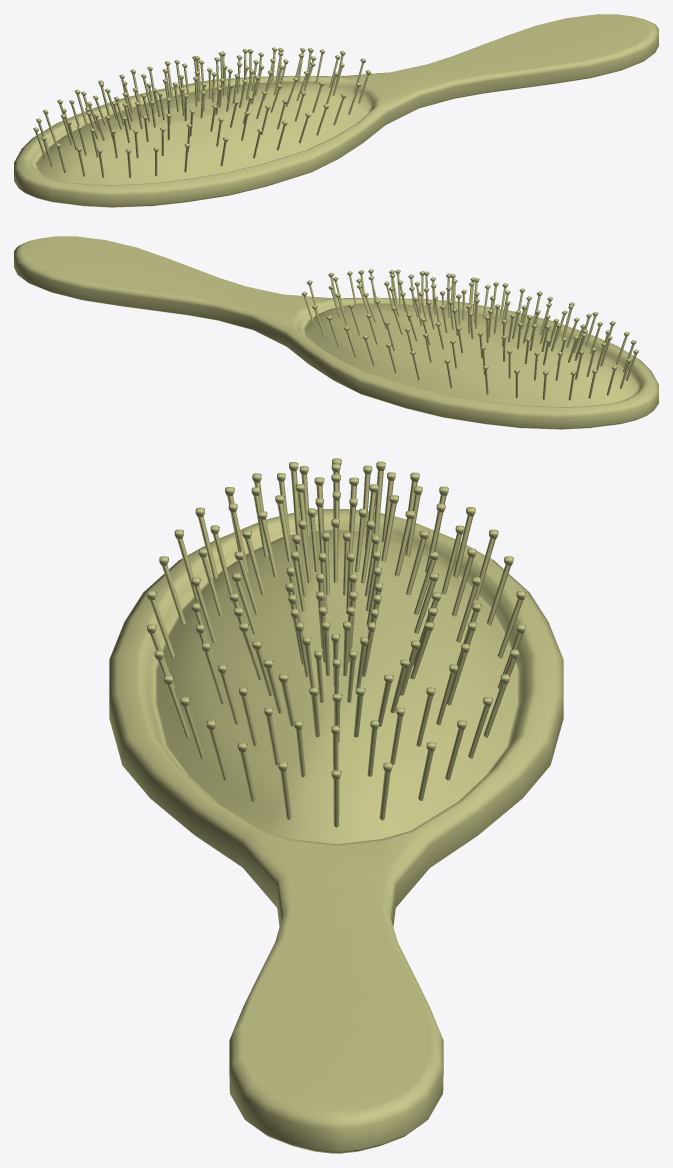
Rendered from hair_brush.fbx.
3 views of the same model, one above another, from view 1: azimuth 30°, elevation 25°; view 2: azimuth 150°, elevation 25°; view 3: azimuth 270°, elevation 25° (orthographic). The views are drawn at different scales.
Visible parts, largest first — view 1: polySurface145; view 2: polySurface145; view 3: polySurface145.
Part boxes in pixels (left/top/right/bottom): polySurface145: left=14, top=14, right=658, bottom=207; polySurface145: left=14, top=236, right=658, bottom=429; polySurface145: left=109, top=458, right=563, bottom=1153.
Bounding box in the file's own units: 0.3152 × 0.0324 × 0.0978.
